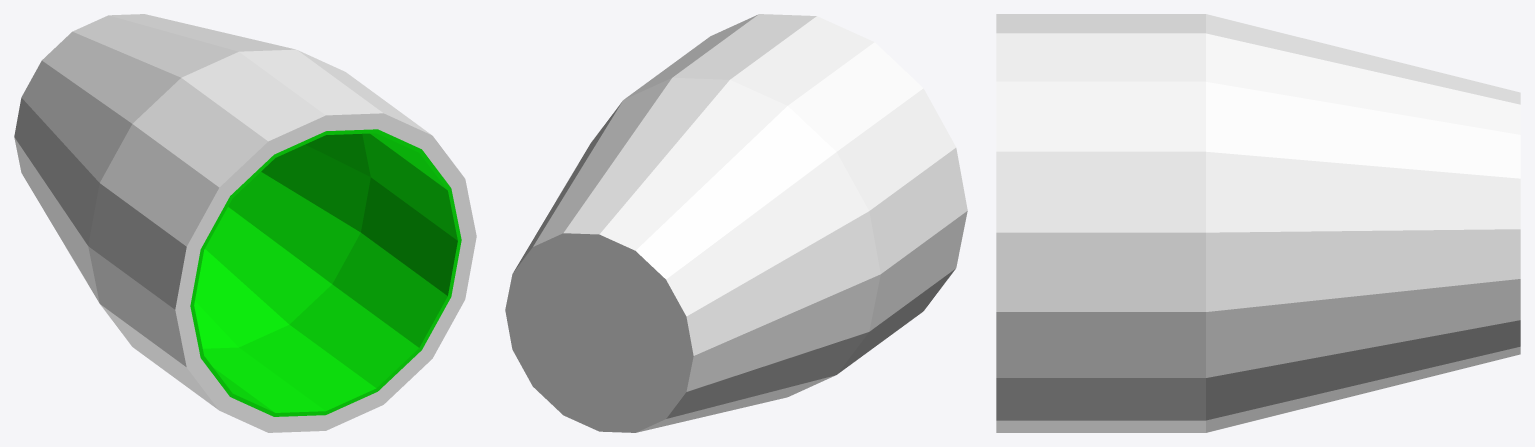
The model's file is nil_link_mesh.dae.
The picture shows the model from 3 angles, left to right: view 1: azimuth 30°, elevation 25°; view 2: azimuth 150°, elevation 25°; view 3: azimuth 270°, elevation 25°; orthographic projection. The views are drawn at different scales.
Parts seen in each view (by area): view 1: nil_link (×2); view 2: nil_link; view 3: nil_link.
Part boxes in pixels (<box>): nil_link (×2): <box>14,14,476,432</box>; nil_link: <box>505,14,967,432</box>; nil_link: <box>996,14,1520,432</box>.
Bounding box in the file's own units: 0.08 × 0.08 × 0.1.
